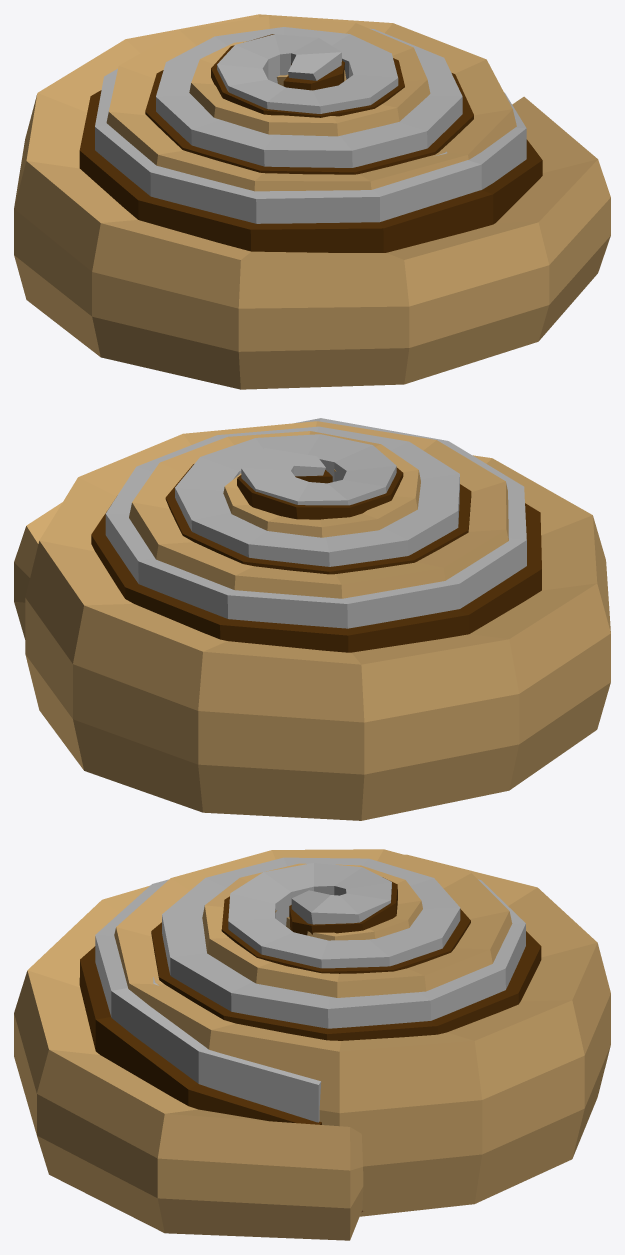
The model's file is cinnamonroll.glb.
The picture shows the model from 3 angles, top to bottom: view 1: azimuth 30°, elevation 25°; view 2: azimuth 150°, elevation 25°; view 3: azimuth 270°, elevation 25°; orthographic projection. The views are drawn at different scales.
Visible parts, largest first — view 1: Cube; view 2: Cube; view 3: Cube.
Boxes of the visible parts, box(x1,y1,x2,y2) form: Cube: box(14, 14, 610, 389); Cube: box(14, 418, 610, 820); Cube: box(14, 849, 610, 1240).
Size of the model in its own units: 4.71 by 1.96 by 4.69.
